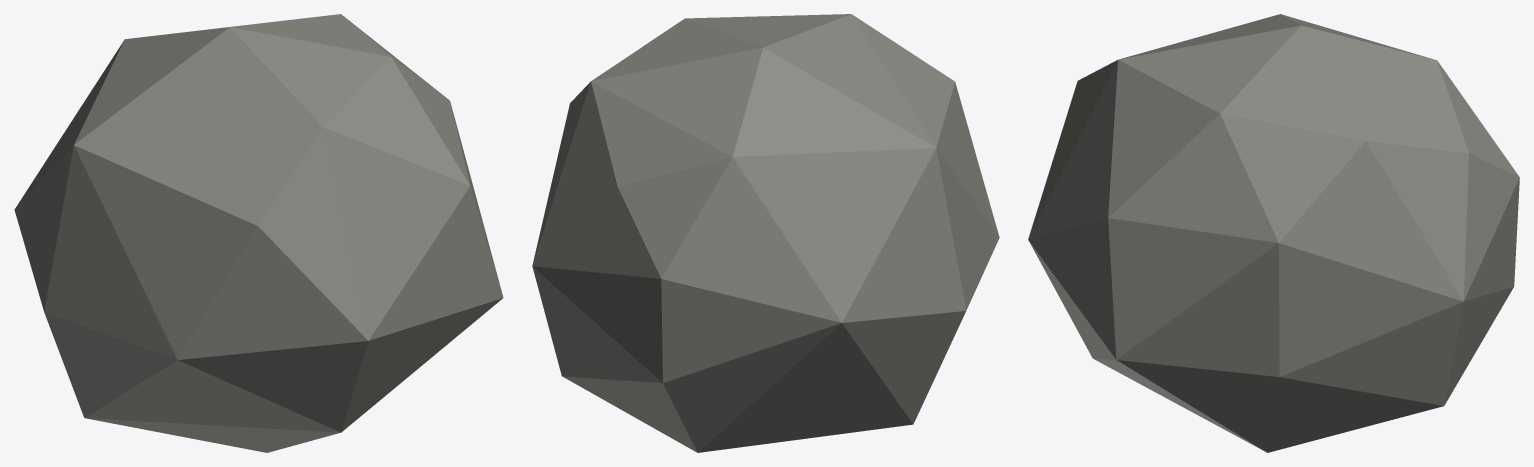
The model's file is FX_Sphere_Tropical_01.glb.
The picture shows the model from 3 angles, left to right: view 1: azimuth 30°, elevation 25°; view 2: azimuth 150°, elevation 25°; view 3: azimuth 270°, elevation 25°; orthographic projection. The views are drawn at different scales.
Visible parts, largest first — view 1: FX_Sphere_Tropical_01; view 2: FX_Sphere_Tropical_01; view 3: FX_Sphere_Tropical_01.
Part boxes in pixels (x1=…): FX_Sphere_Tropical_01: x1=14, y1=14, x2=503, y2=452; FX_Sphere_Tropical_01: x1=532, y1=14, x2=999, y2=452; FX_Sphere_Tropical_01: x1=1028, y1=14, x2=1519, y2=452.
Size of the model in its own units: 0.5192 by 0.4885 by 0.5468.
1 material, 1 textured.
